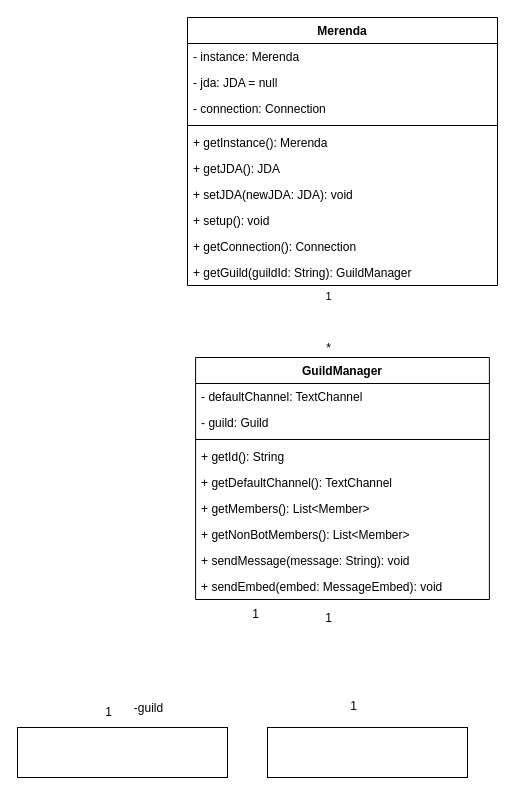
This 515x795 diagram has some shape labels left out. The shapes that lost their labels are listed below. From the top down, each one's centre as x and y in pixels, then its label:
point 122,752: TimerHandler (timers package)
point 367,752: PollHandler (polls package)
